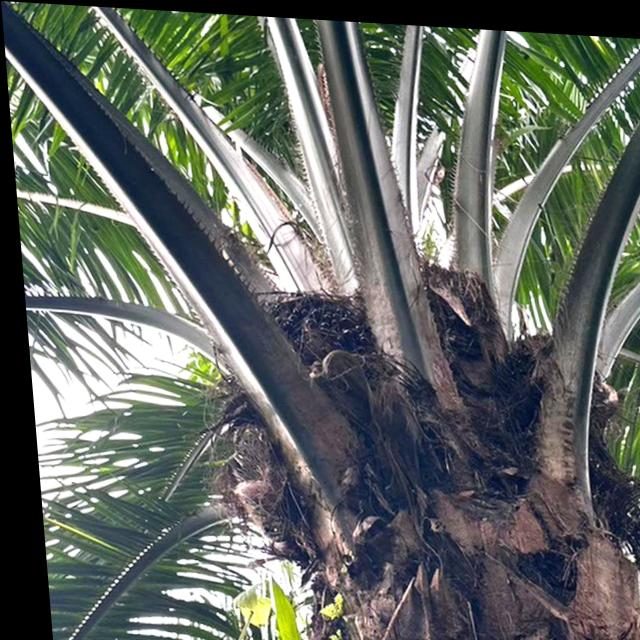ripe: (244, 256, 382, 382)
